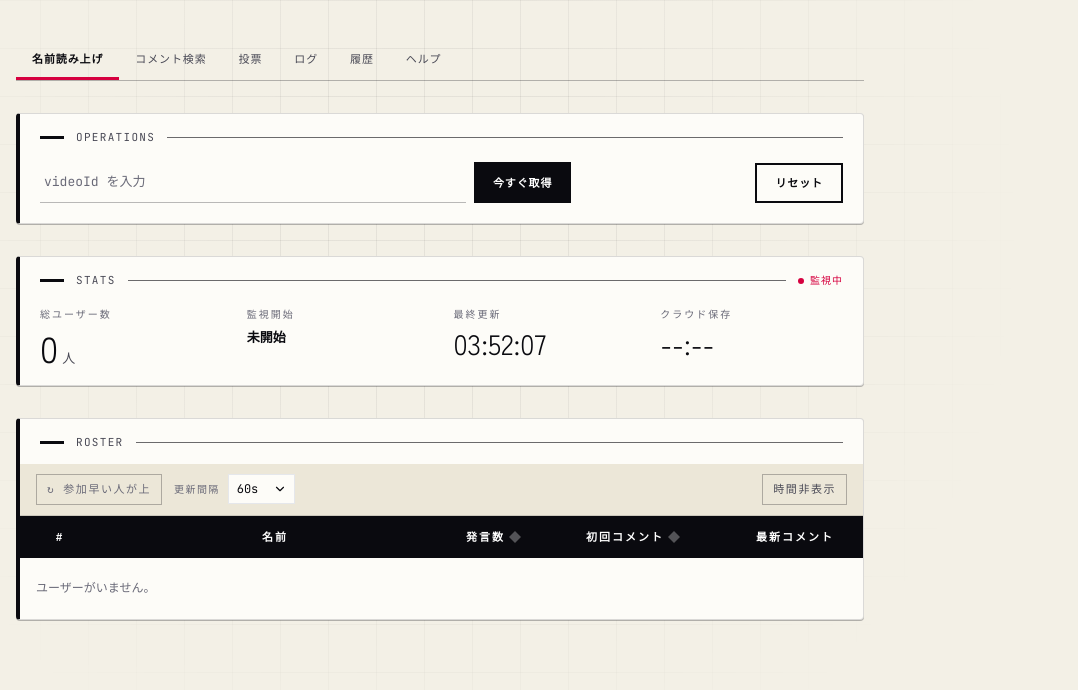
App Integration (MSW) › 手動「今すぐ取得」は「取得しました」メッセージが表示される
Expected: the text "ユーザーがいません。" is shown, [36, 580, 155, 596]
Note: 手動で「今すぐ取得」ボタンをクリック
Click the button "今すぐ取得": [523, 183] box [474, 162, 571, 204]
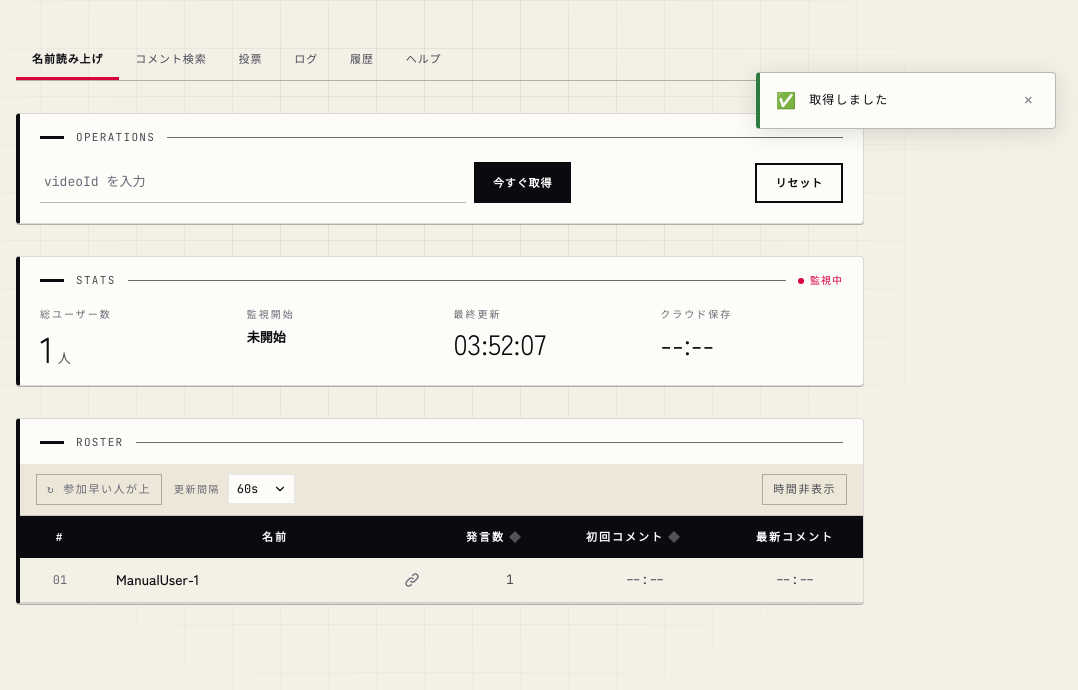
Expected: the text "ManualUser-1" is shown, [116, 569, 199, 589]
Expected: the text "取得しました" is shown, [809, 92, 888, 108]
